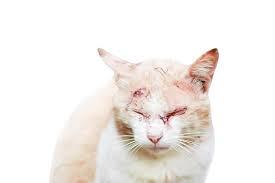cut: (121, 72, 212, 128)
